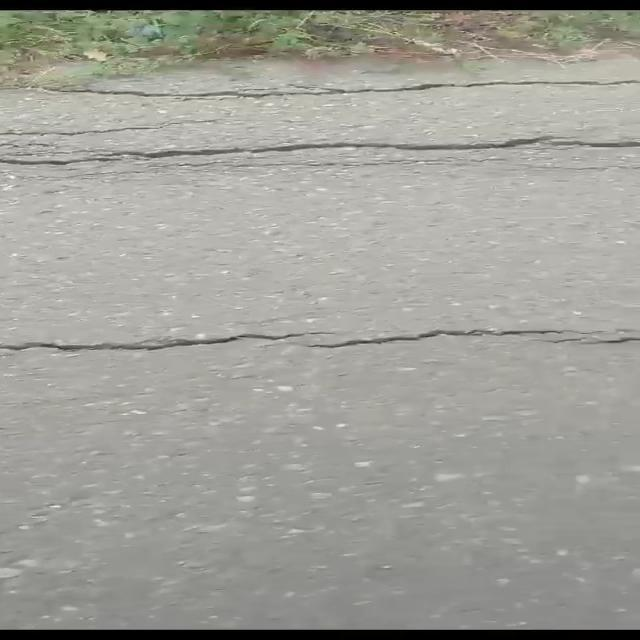Melintang: (0, 317, 640, 366), (0, 133, 640, 174), (116, 66, 637, 109)
